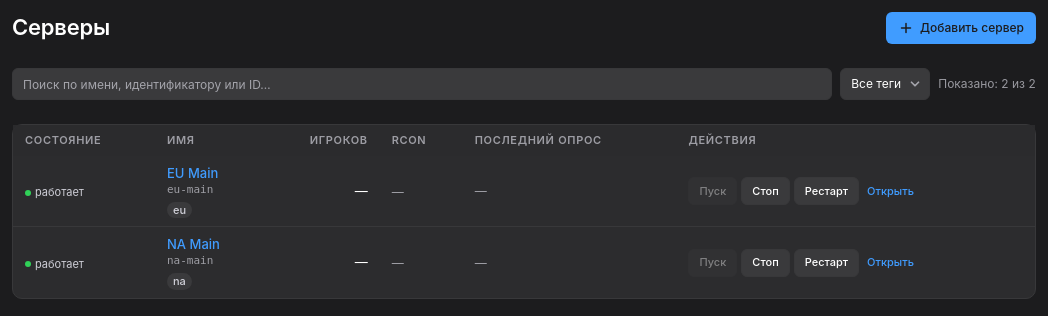
Test case: ServersPage › tag filter narrows the server list
The width and height of the screenshot is (1048, 316).
Check: the link "EU Main" is shown, box x1=167 y1=165 x2=218 y2=181
Check: the link "NA Main" is shown, box x1=167 y1=236 x2=220 y2=252
Select "eu" in the dropdown named "Фильтр по тегу" at (885, 84), box x1=840 y1=68 x2=930 y2=100
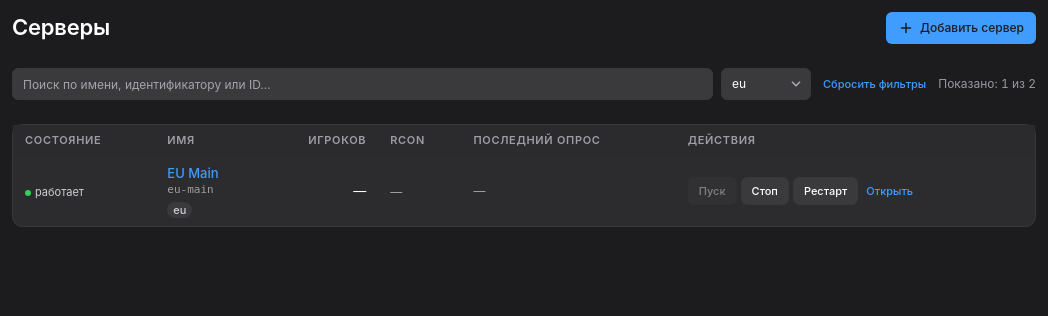
Check: the link "EU Main" is shown, box x1=167 y1=165 x2=219 y2=181
Check: the link "NA Main" is gone
Note: Back to «Все теги» restores the full list.
Select "Все теги" in the dropdown named "Фильтр по тегу" at (766, 84), box x1=721 y1=68 x2=811 y2=100
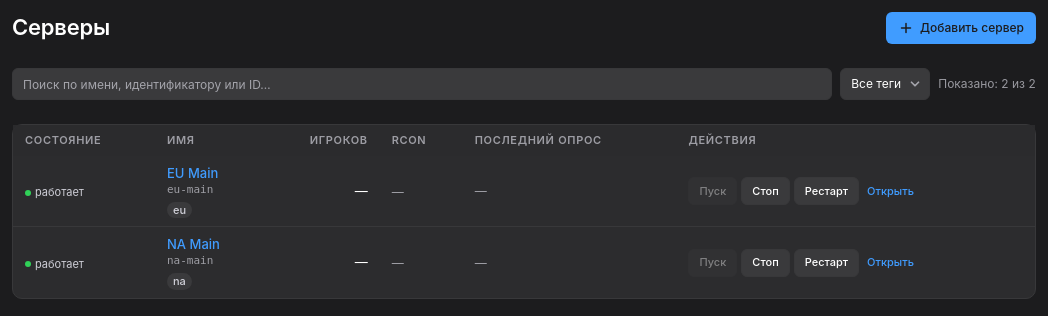
Check: the link "NA Main" is shown, box x1=167 y1=236 x2=220 y2=252
